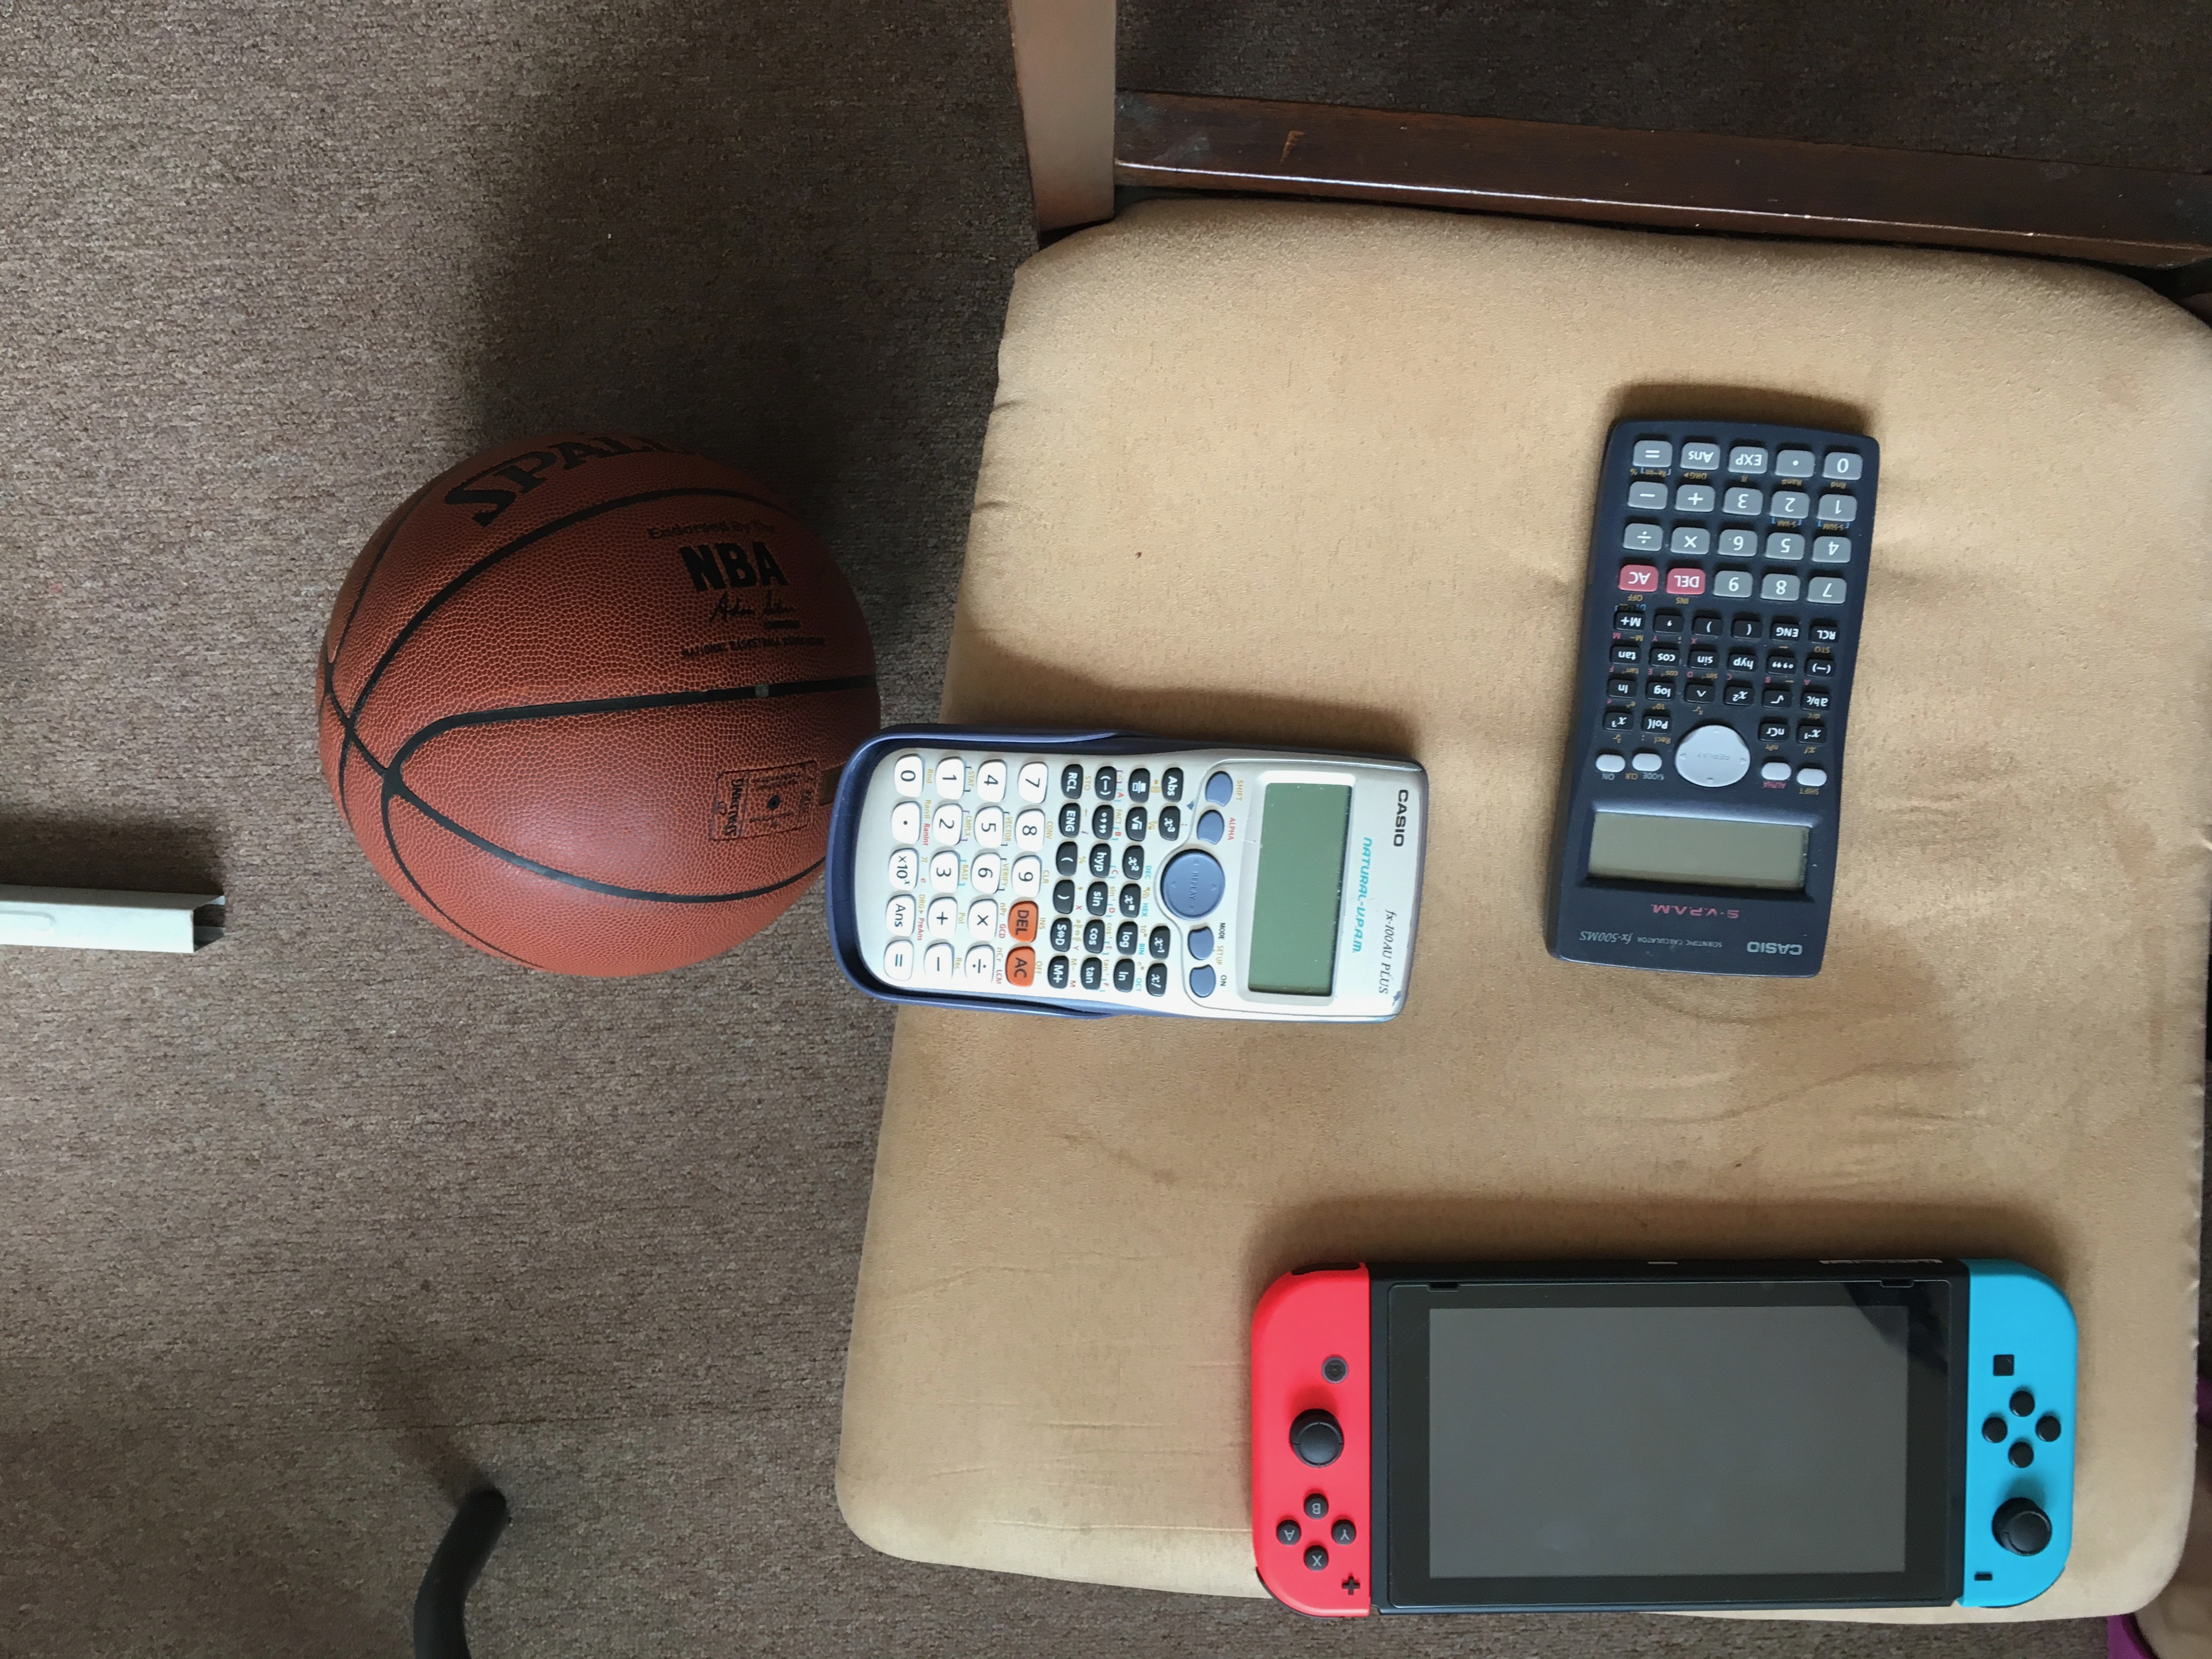Basketball: (308, 418, 852, 983)
Calculator: (1538, 406, 1888, 993), (824, 721, 1439, 1032)
NintendoSwitch: (1231, 1236, 2099, 1635)
